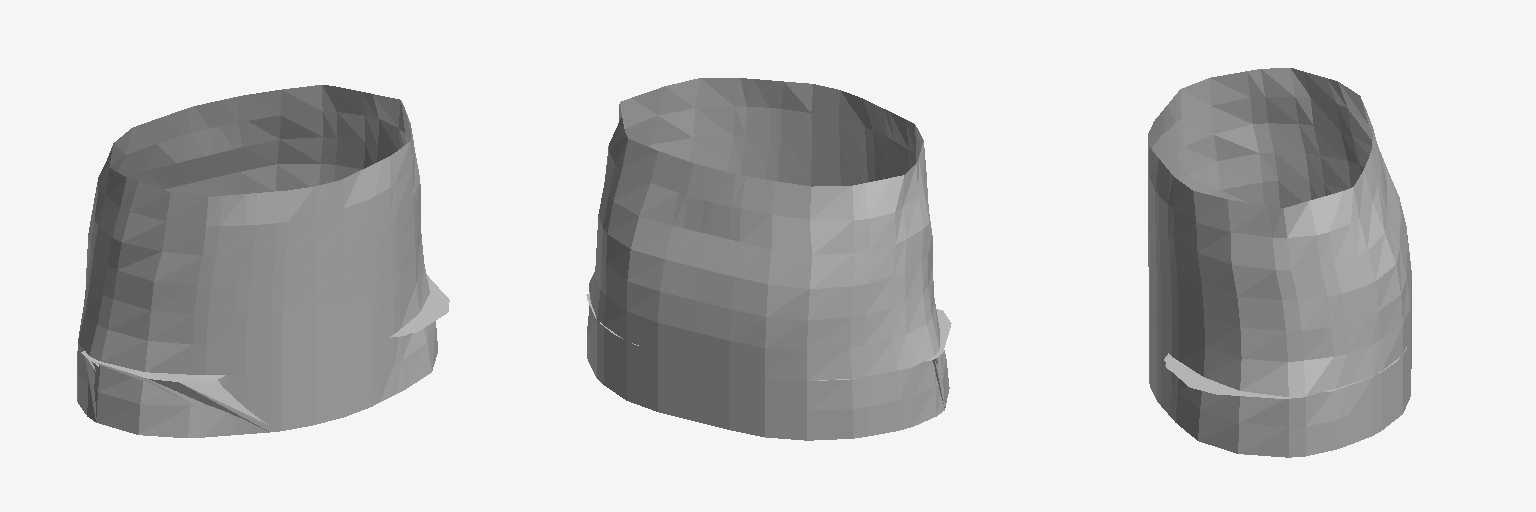
File: Pants.obj
3 views of the same model, side by side, from view 1: azimuth 30°, elevation 25°; view 2: azimuth 150°, elevation 25°; view 3: azimuth 270°, elevation 25° (orthographic).
Bounding box in the file's own units: 3.6 × 2.4 × 2.4.